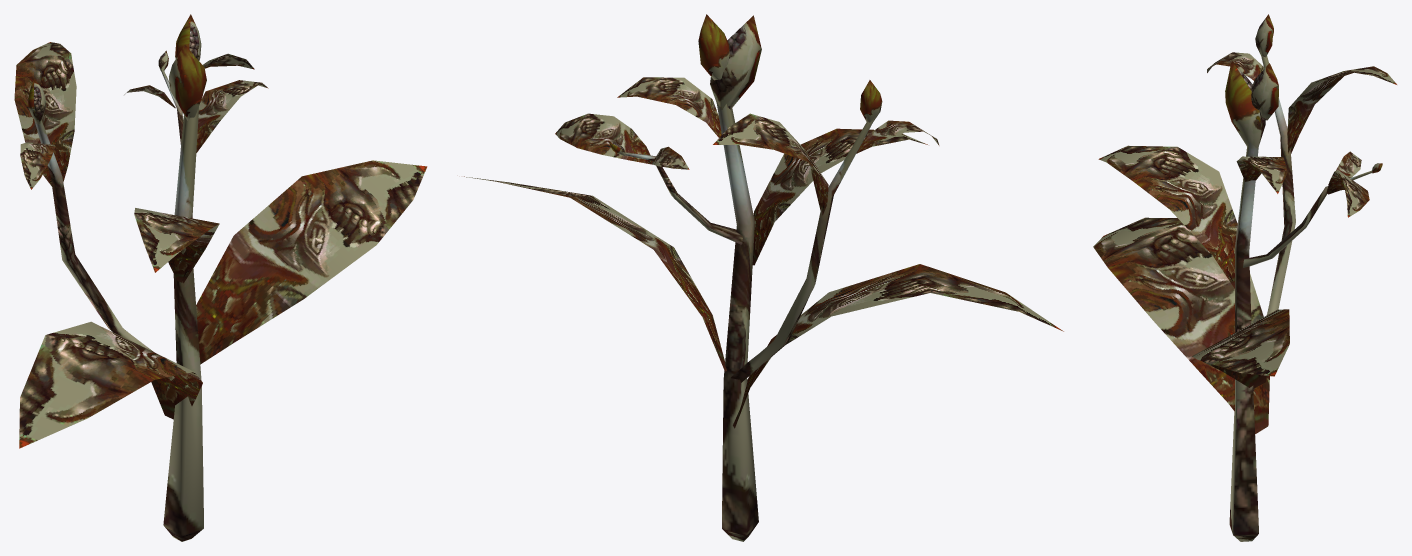
File: S_Plant_DouLuo001.FBX
3 renders of one model, left to right at view 1: azimuth 30°, elevation 25°; view 2: azimuth 150°, elevation 25°; view 3: azimuth 270°, elevation 25°, orthographic. The views are drawn at different scales.
Visible parts, largest first — view 1: S_Plant_DouLuo001; view 2: S_Plant_DouLuo001; view 3: S_Plant_DouLuo001.
Part boxes in pixels (x1=…): S_Plant_DouLuo001: x1=14, y1=14, x2=427, y2=541; S_Plant_DouLuo001: x1=464, y1=14, x2=1063, y2=541; S_Plant_DouLuo001: x1=1093, y1=14, x2=1396, y2=541.
Bounding box in the file's own units: 46.12 × 45.13 × 25.67.
